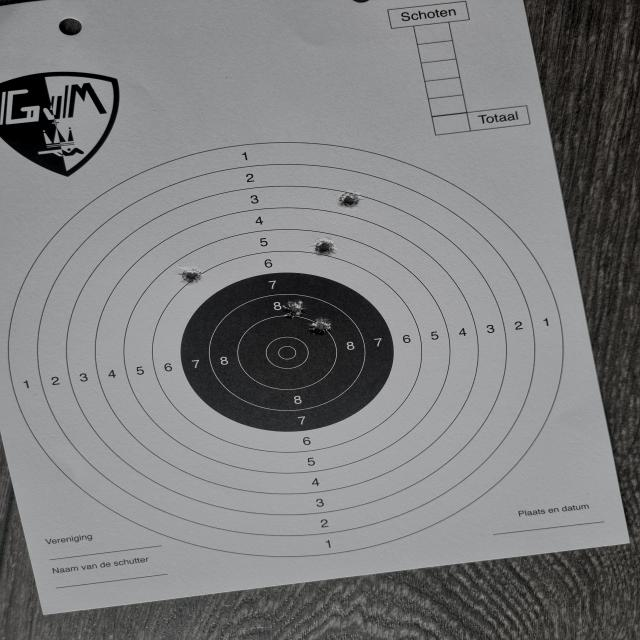3: (339, 192, 359, 208)
6: (178, 269, 204, 286), (314, 239, 334, 257)
9: (310, 317, 336, 337), (282, 298, 306, 318)
Target: (8, 141, 562, 558)
black_contour: (181, 273, 394, 431)
